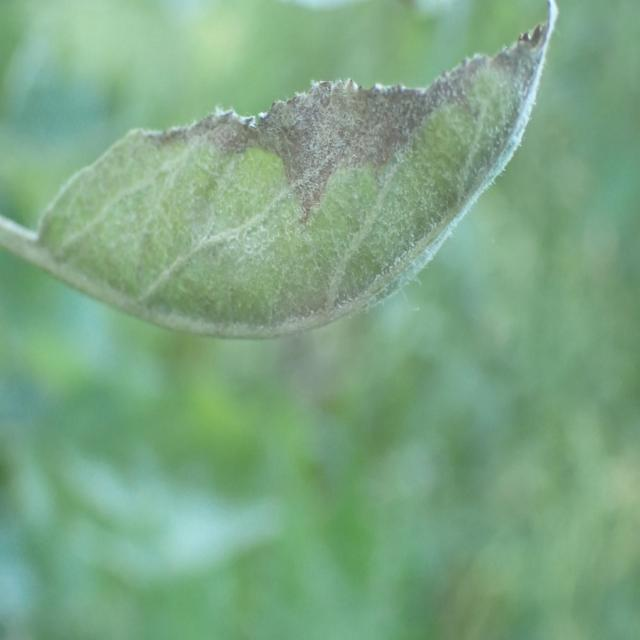Powdery_mildew: (56, 12, 557, 343)
